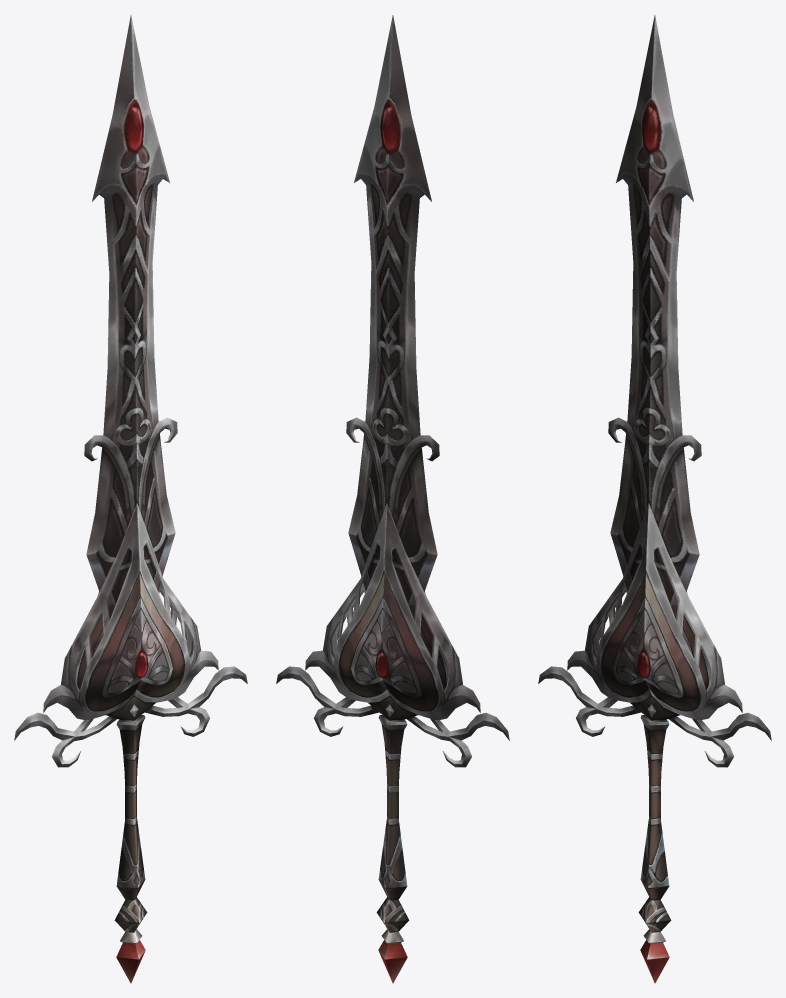
File: Hero_Scarlet_Cos18Halloween_Weapon.fbx
3 views of the same model, side by side, from view 1: azimuth 30°, elevation 25°; view 2: azimuth 150°, elevation 25°; view 3: azimuth 330°, elevation 25° (orthographic).
Visible parts, largest first — view 1: Hero_Scarlet_Cos18Halloween_Weapon; view 2: Hero_Scarlet_Cos18Halloween_Weapon; view 3: Hero_Scarlet_Cos18Halloween_Weapon.
Part boxes in pixels (bbox=[...]): Hero_Scarlet_Cos18Halloween_Weapon: bbox=[14, 15, 247, 983]; Hero_Scarlet_Cos18Halloween_Weapon: bbox=[276, 15, 509, 983]; Hero_Scarlet_Cos18Halloween_Weapon: bbox=[538, 15, 771, 983].
Bounding box in the file's own units: 0.5242 × 2.08 × 0.0947.
Materials: 1 (1 with a texture image).
